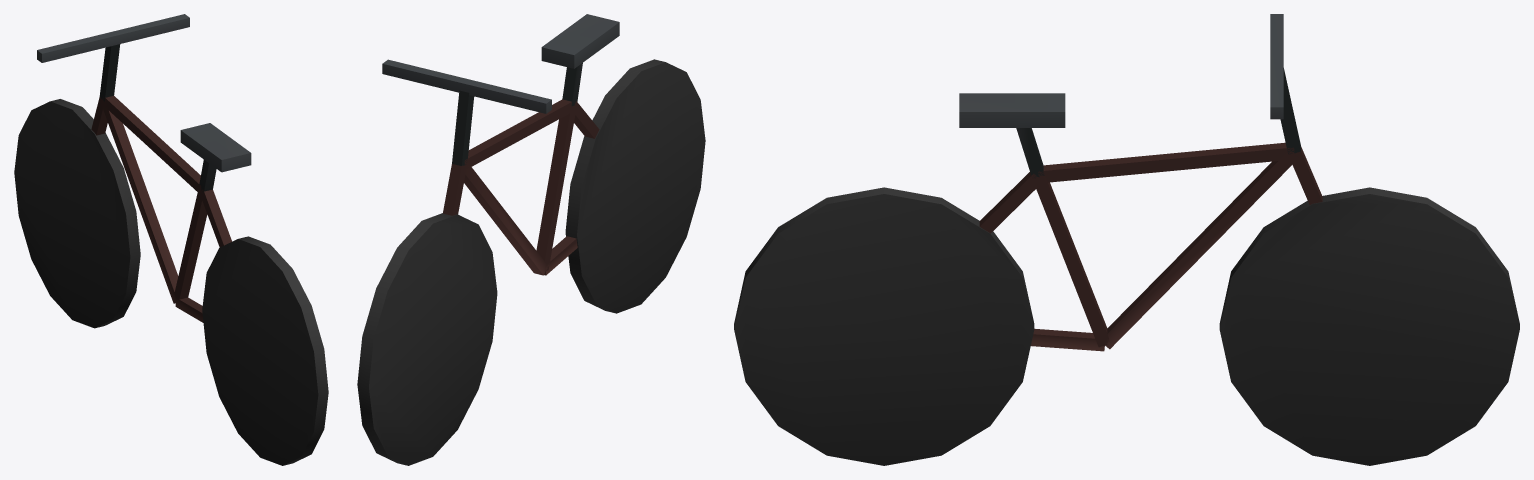
The model's file is fahrrad.glb.
3 views of the same model, side by side, from view 1: azimuth 30°, elevation 25°; view 2: azimuth 150°, elevation 25°; view 3: azimuth 270°, elevation 25° (orthographic). The views are drawn at different scales.
Parts seen in each view (by area): view 1: lack; view 2: lack; view 3: lack.
Boxes of the visible parts, box(x1,y1,x2,y2) form: lack: box(14, 14, 328, 465); lack: box(357, 14, 705, 465); lack: box(734, 14, 1519, 465).
Size of the model in its own units: 0.5 by 1.01 by 1.78.
